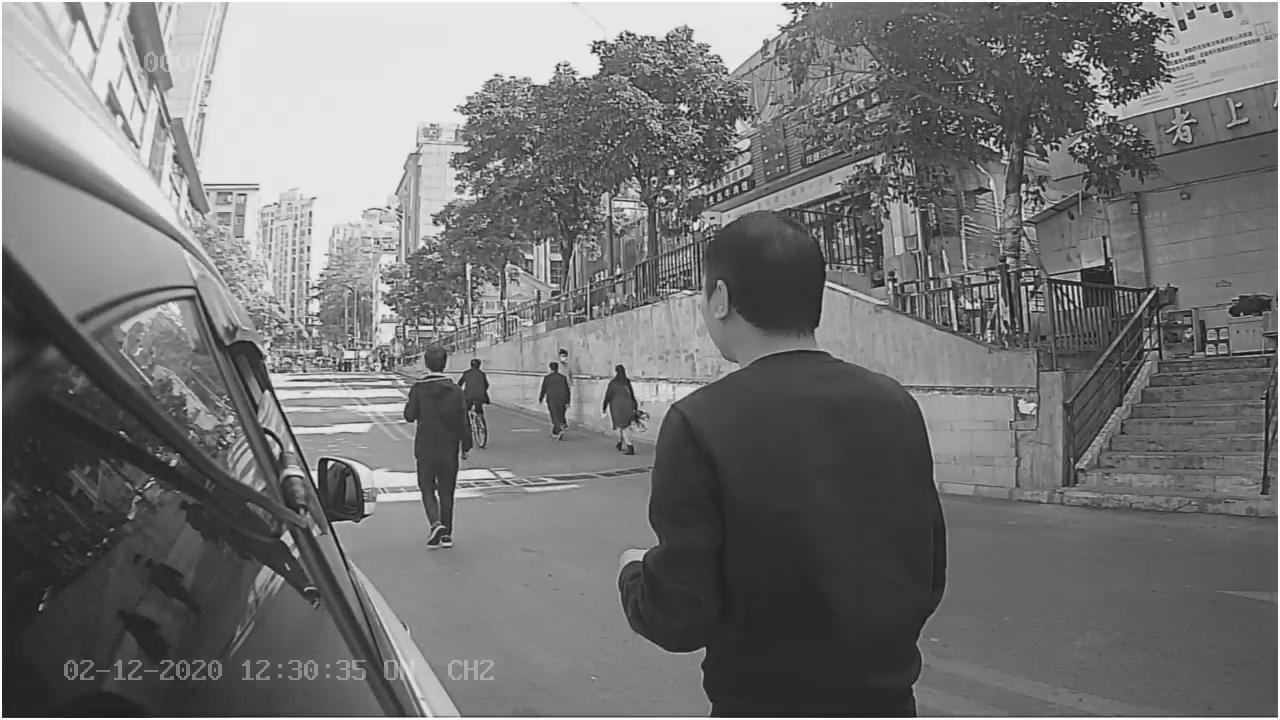person: (646, 208, 947, 527)
